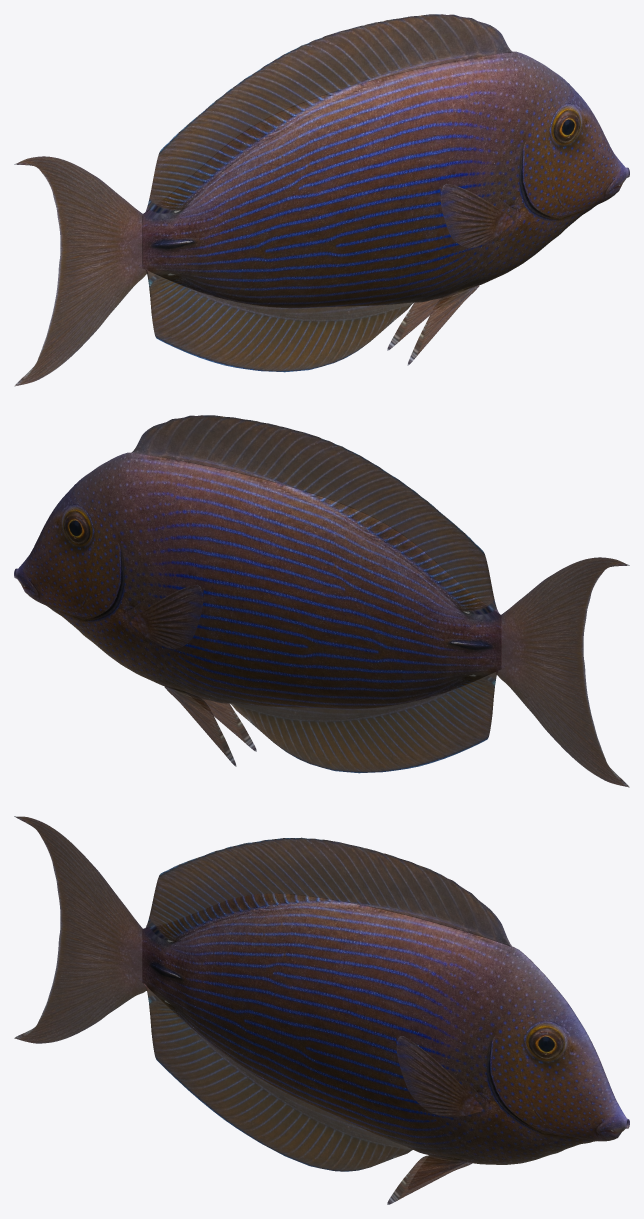
Rendered from strigosus-DE_oX7Nh.glb.
3 renders of one model, top to bottom at view 1: azimuth 30°, elevation 25°; view 2: azimuth 150°, elevation 25°; view 3: azimuth 330°, elevation 25°, orthographic.
Parts seen in each view (by area): view 1: strigosus__body, strigosus__fin_1, strigosus__fin_2, strigosus__fin_0, strigosus__gill_1, strigosus__pectoral_1, strigosus__pelvic_1, strigosus__pelvic_-1, strigosus__eye_1; view 2: strigosus__body, strigosus__fin_1, strigosus__fin_2, strigosus__fin_0, strigosus__gill_-1, strigosus__pectoral_-1, strigosus__pelvic_-1, strigosus__pelvic_1, strigosus__eye_-1; view 3: strigosus__body, strigosus__fin_1, strigosus__fin_2, strigosus__fin_0, strigosus__gill_1, strigosus__pectoral_1, strigosus__pelvic_1, strigosus__eye_1.
Boxes of the visible parts, box(x1,y1,x2,y2) form: strigosus__body: box(142, 51, 629, 308); strigosus__fin_1: box(144, 14, 513, 214); strigosus__fin_2: box(145, 269, 413, 372); strigosus__fin_0: box(14, 156, 146, 386); strigosus__gill_1: box(522, 104, 568, 234); strigosus__pectoral_1: box(440, 183, 513, 247); strigosus__pelvic_1: box(407, 284, 479, 365); strigosus__pelvic_-1: box(387, 298, 441, 350); strigosus__eye_1: box(555, 111, 579, 143); strigosus__body: box(14, 452, 501, 709); strigosus__fin_1: box(131, 415, 499, 613); strigosus__fin_2: box(230, 672, 496, 773); strigosus__fin_0: box(496, 557, 629, 787); strigosus__gill_-1: box(75, 505, 121, 635); strigosus__pectoral_-1: box(130, 584, 203, 648); strigosus__pelvic_-1: box(164, 685, 236, 766); strigosus__pelvic_1: box(202, 699, 256, 751); strigosus__eye_-1: box(64, 512, 88, 544); strigosus__body: box(142, 893, 629, 1164); strigosus__fin_1: box(144, 837, 512, 947); strigosus__fin_2: box(143, 983, 412, 1171); strigosus__fin_0: box(14, 816, 146, 1043); strigosus__gill_1: box(496, 1009, 544, 1134); strigosus__pectoral_1: box(396, 1035, 482, 1116); strigosus__pelvic_1: box(387, 1155, 472, 1204); strigosus__eye_1: box(530, 1028, 561, 1059).
Size of the model in its own units: 1.27 by 0.6748 by 0.1581.
Materials: 5 (5 with a texture image).
